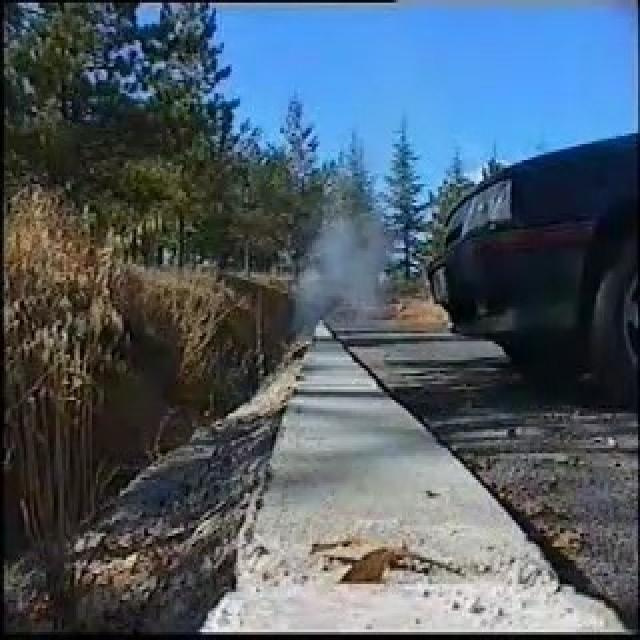smoke: (296, 220, 374, 327)
